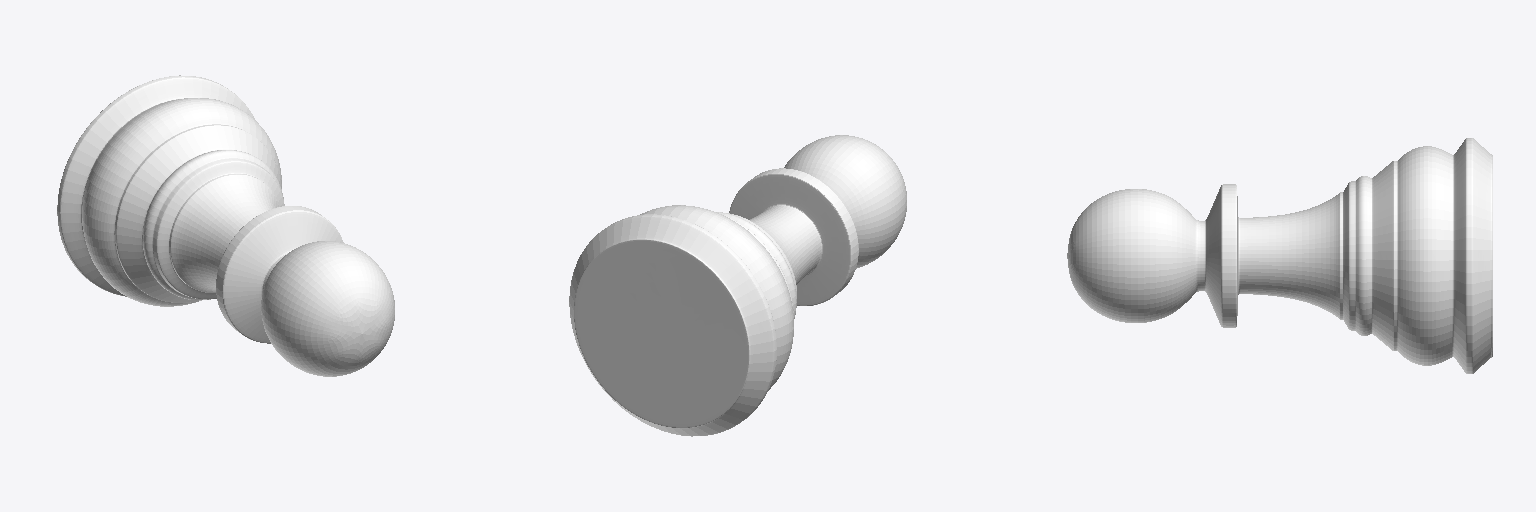
File: 12937_Wooden_Chess_Pawn_Side_B_V2_L3.obj
3 views of the same model, side by side, from view 1: azimuth 30°, elevation 25°; view 2: azimuth 150°, elevation 25°; view 3: azimuth 270°, elevation 25° (orthographic).
Visible parts, largest first — view 1: WoodenChessPawnSideB; view 2: WoodenChessPawnSideB; view 3: WoodenChessPawnSideB.
Part boxes in pixels (bbox=[...]): WoodenChessPawnSideB: bbox=[57, 75, 394, 376]; WoodenChessPawnSideB: bbox=[569, 135, 906, 436]; WoodenChessPawnSideB: bbox=[1067, 138, 1492, 373].
Bounding box in the file's own units: 4.56 × 4.56 × 8.17.